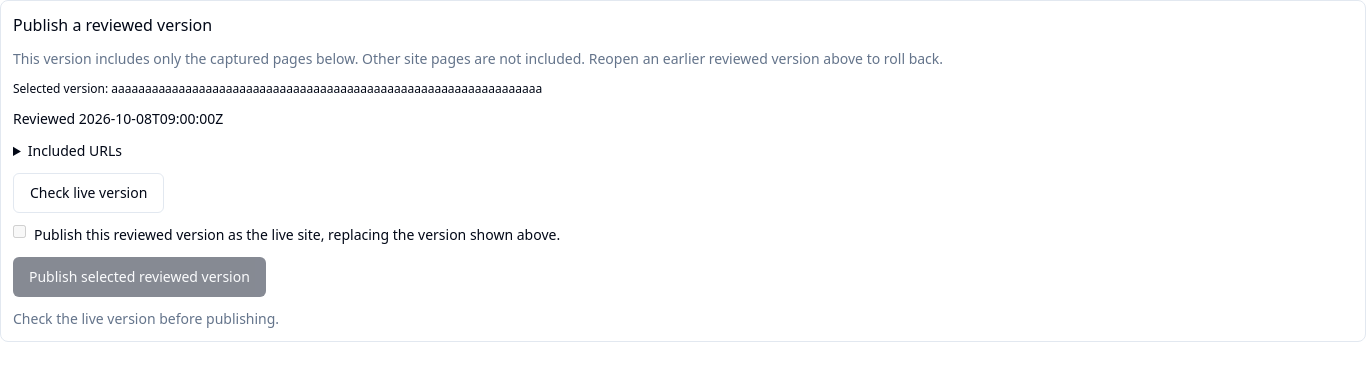
Test: guarded publication panel › checks a chunked live version without relaxing legacy bounds
What coordinates should you click on to do the following:
click the button "Check live version"
I would click on:
 (89, 193)
Its box is [13,173,164,213].
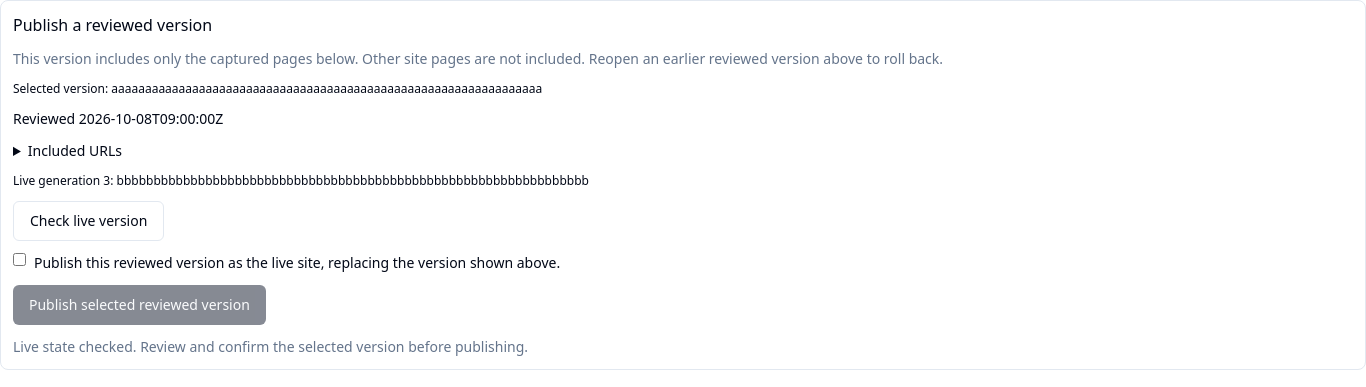
Expected: the text "Live state checked. Review and confirm the selected version before publishing." is shown, [13,337,528,356]
What coordinates should you click on to do the following:
click the checkbox named "Confirm selected version replaces live site"
I would click on:
 (20, 260)
Its box is [13,253,26,266].
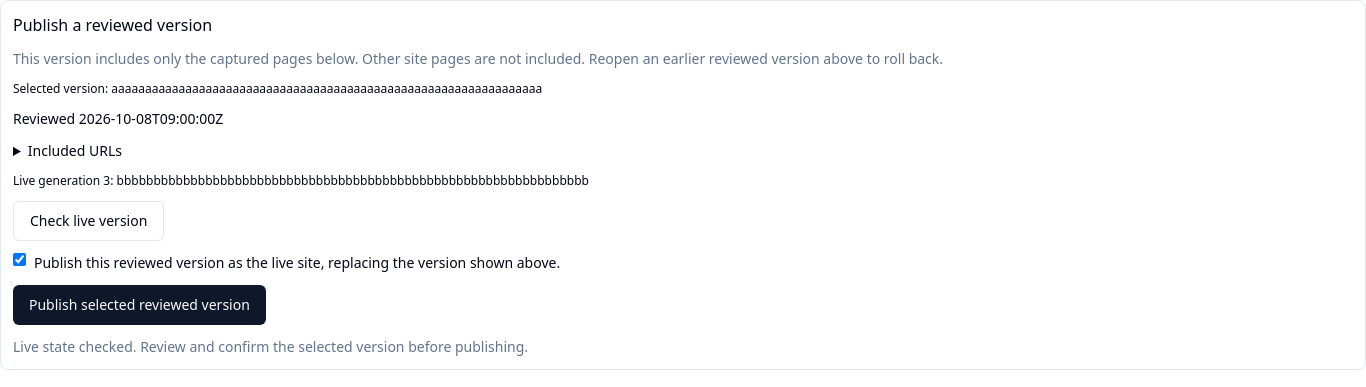
Expected: the button "Publish selected reviewed version" is enabled, [13,285,266,325]
What coordinates should you click on to do the following:
click the button "Check live version"
I would click on:
 (89, 221)
Its box is [13,201,164,241].
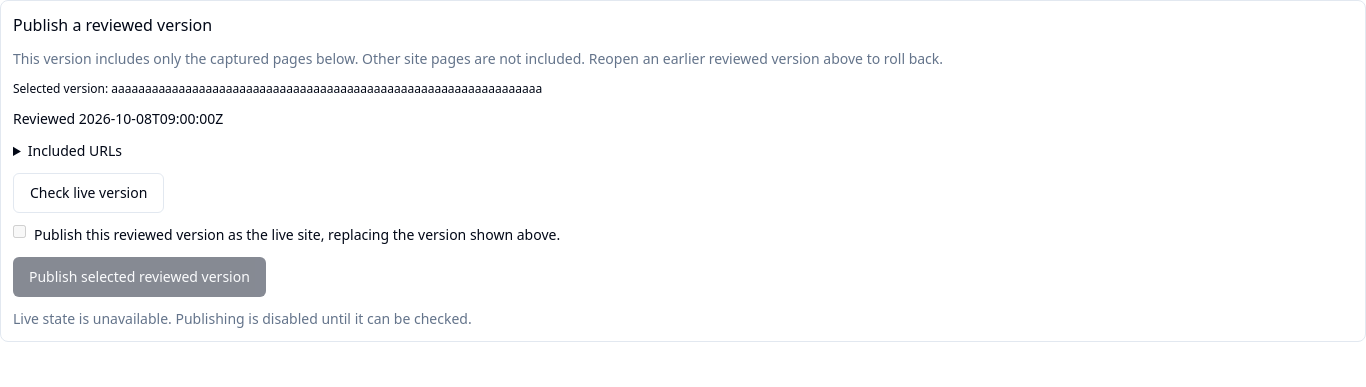
Expected: the checkbox named "Confirm selected version replaces live site" is not checked, [13,225,26,238]
Expected: the text "Live state is unavailable. Publishing is disabled until it can be checked." is shown, [13,309,472,328]
Expected: the button "Publish selected reviewed version" is disabled, [13,257,266,297]
